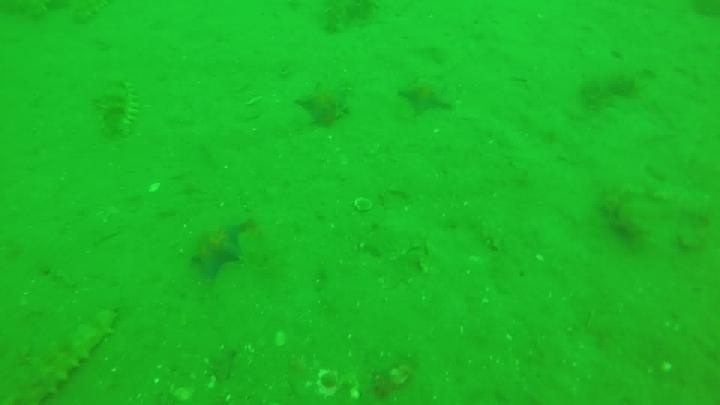holothurian: (20, 306, 121, 404), (93, 80, 143, 141), (68, 1, 114, 26)
starfish: (187, 217, 254, 280), (293, 79, 352, 129), (396, 75, 455, 119)
